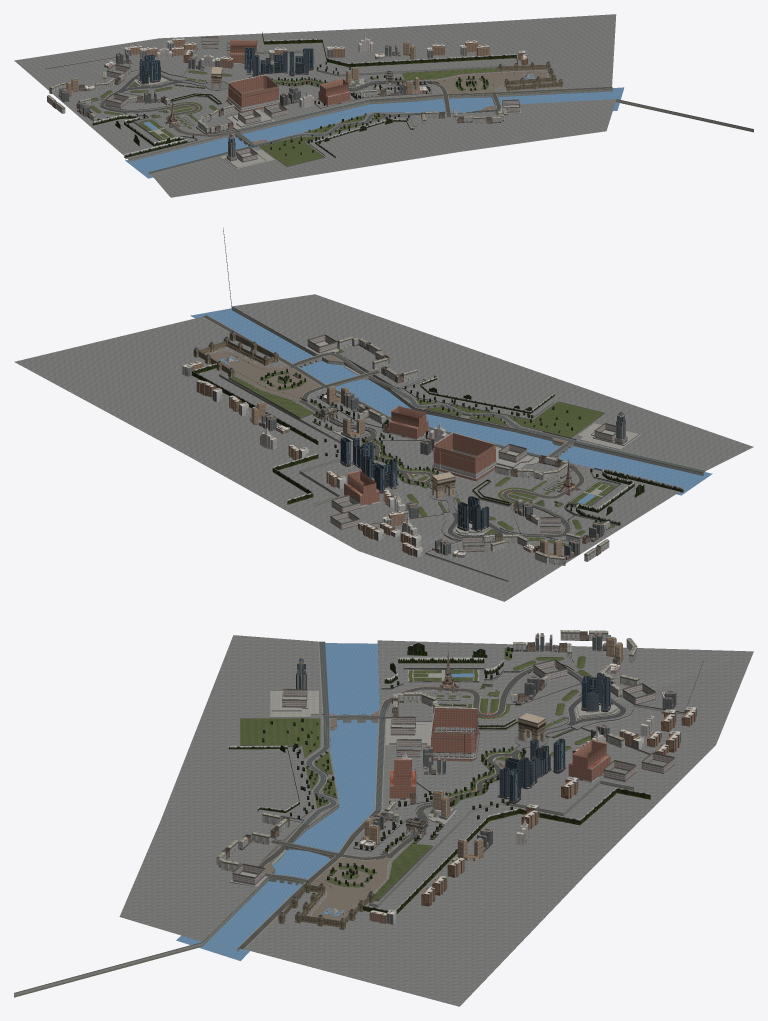
The model's file is paris track.glb.
3 renders of one model, top to bottom at view 1: azimuth 30°, elevation 25°; view 2: azimuth 150°, elevation 25°; view 3: azimuth 270°, elevation 25°, orthographic. The views are drawn at different scales.
Parts seen in each view (by area): view 1: mesh; view 2: mesh; view 3: mesh.
Part boxes in pixels (x1,y1,x2,y2): mesh: [14, 14, 753, 197]; mesh: [14, 228, 753, 601]; mesh: [14, 630, 753, 1006].
Size of what is drawn, in the model's own units: 3444 by 200 by 2912.
Materials: 48 (48 with a texture image).
